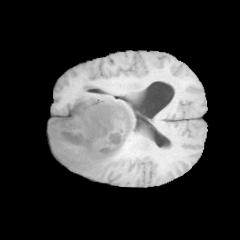glioma: (48, 92, 134, 178)
